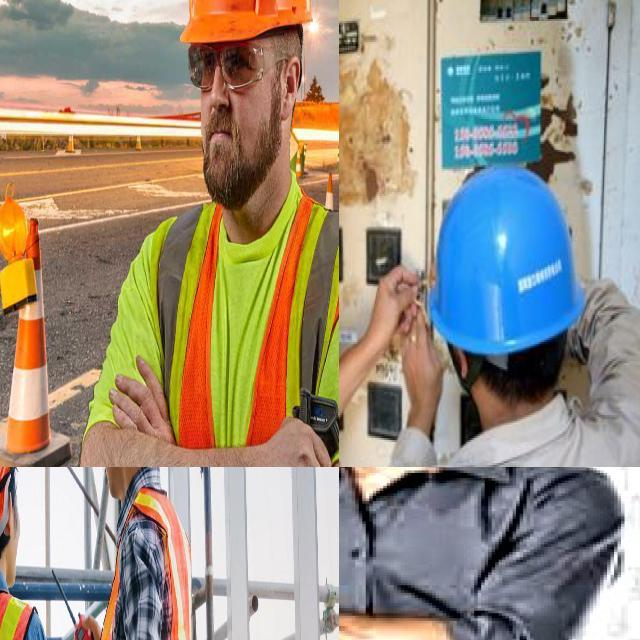No_Ear-Protection: (281, 48, 302, 123)
face_nomask: (191, 48, 286, 201), (97, 467, 131, 496)
glasses: (184, 40, 263, 96)
hand_noglove: (402, 309, 442, 434), (256, 406, 332, 467), (366, 266, 414, 355)
head_helmet: (429, 167, 585, 357), (173, 0, 314, 43)
person: (96, 0, 339, 467), (80, 467, 200, 640), (0, 467, 74, 640)
vest: (106, 192, 339, 467), (99, 487, 194, 640)
